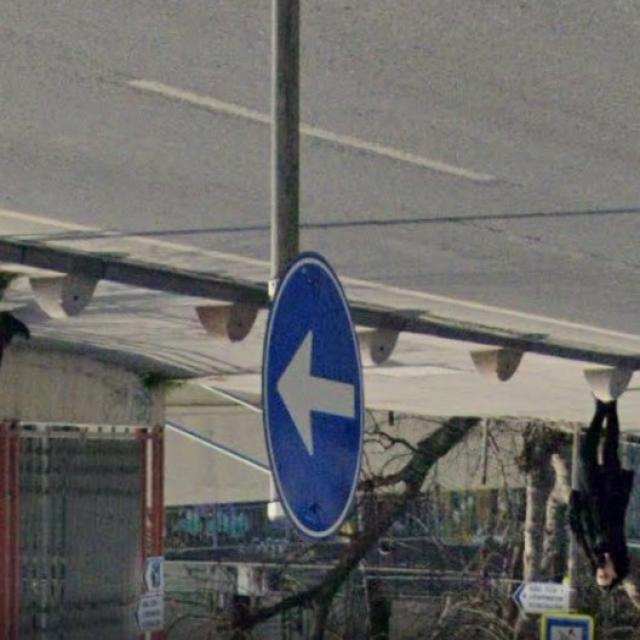Turn Left: (275, 270, 371, 548)
